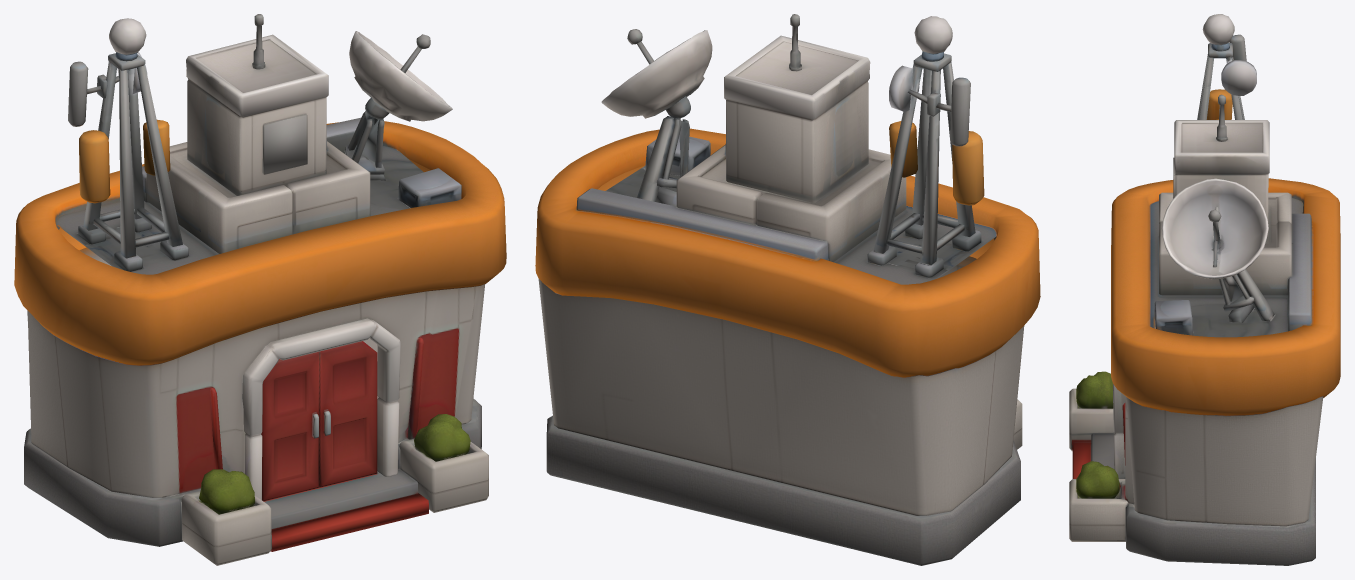
The model's file is bldg_station.glb.
The picture shows the model from 3 angles, left to right: view 1: azimuth 30°, elevation 25°; view 2: azimuth 150°, elevation 25°; view 3: azimuth 270°, elevation 25°; orthographic projection. The views are drawn at different scales.
Visible parts, largest first — view 1: tripo_node_b78ed82a-909c-4e85-bf39-a59136cde0d1; view 2: tripo_node_b78ed82a-909c-4e85-bf39-a59136cde0d1; view 3: tripo_node_b78ed82a-909c-4e85-bf39-a59136cde0d1.
Boxes of the visible parts, x1,y1,x2,y2 form: tripo_node_b78ed82a-909c-4e85-bf39-a59136cde0d1: (14, 14, 506, 565); tripo_node_b78ed82a-909c-4e85-bf39-a59136cde0d1: (535, 14, 1040, 565); tripo_node_b78ed82a-909c-4e85-bf39-a59136cde0d1: (1069, 14, 1340, 565).
Size of the model in its own units: 0.9434 by 0.998 by 0.5957.
Materials: 1 (1 with a texture image).
